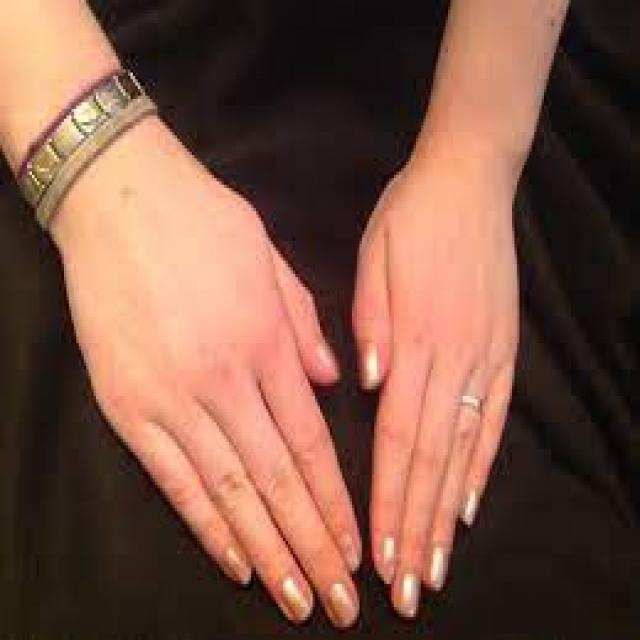bare_hand: (52, 113, 362, 632), (355, 151, 523, 618)
